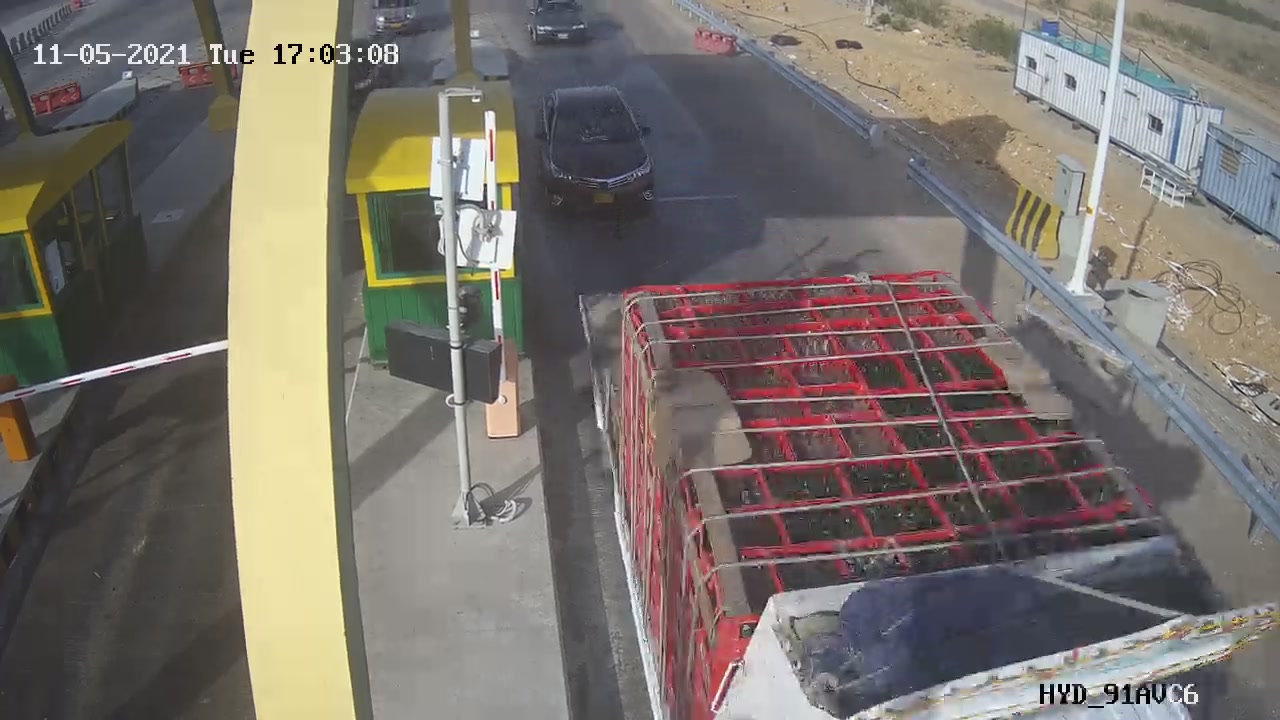F1: (525, 78, 673, 227)
